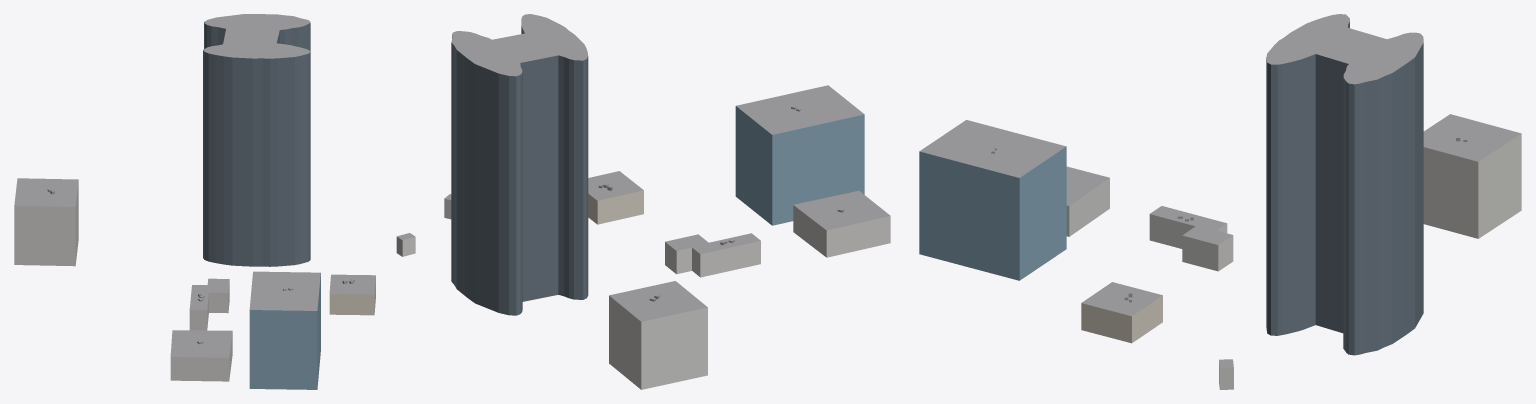
Rendered from building_-1_-4.glb.
3 views of the same model, side by side, from view 1: azimuth 30°, elevation 25°; view 2: azimuth 150°, elevation 25°; view 3: azimuth 270°, elevation 25° (orthographic). The views are drawn at different scales.
Parts seen in each view (by area): view 1: glass_dark, roof, concrete_light, glass_blue, concrete_warm; view 2: glass_dark, roof, concrete_light, glass_blue, concrete_warm; view 3: glass_dark, roof, glass_blue, concrete_light, concrete_warm.
Part boxes in pixels (left/top/right/bottom): glass_dark: left=203, top=22, right=310, bottom=266; roof: left=14, top=14, right=414, bottom=357; concrete_light: left=14, top=182, right=415, bottom=381; glass_blue: left=249, top=273, right=320, bottom=389; concrete_warm: left=329, top=279, right=375, bottom=315; glass_dark: left=451, top=25, right=588, bottom=315; roof: left=444, top=14, right=890, bottom=321; concrete_light: left=444, top=198, right=890, bottom=389; glass_blue: left=735, top=106, right=864, bottom=225; concrete_warm: left=588, top=190, right=643, bottom=224; glass_dark: left=1266, top=22, right=1423, bottom=355; roof: left=919, top=14, right=1521, bottom=368; glass_blue: left=919, top=146, right=1066, bottom=280; concrete_light: left=1066, top=133, right=1521, bottom=389; concrete_warm: left=1081, top=295, right=1162, bottom=343.
Size of the model in its own units: 213 by 135 by 272.
